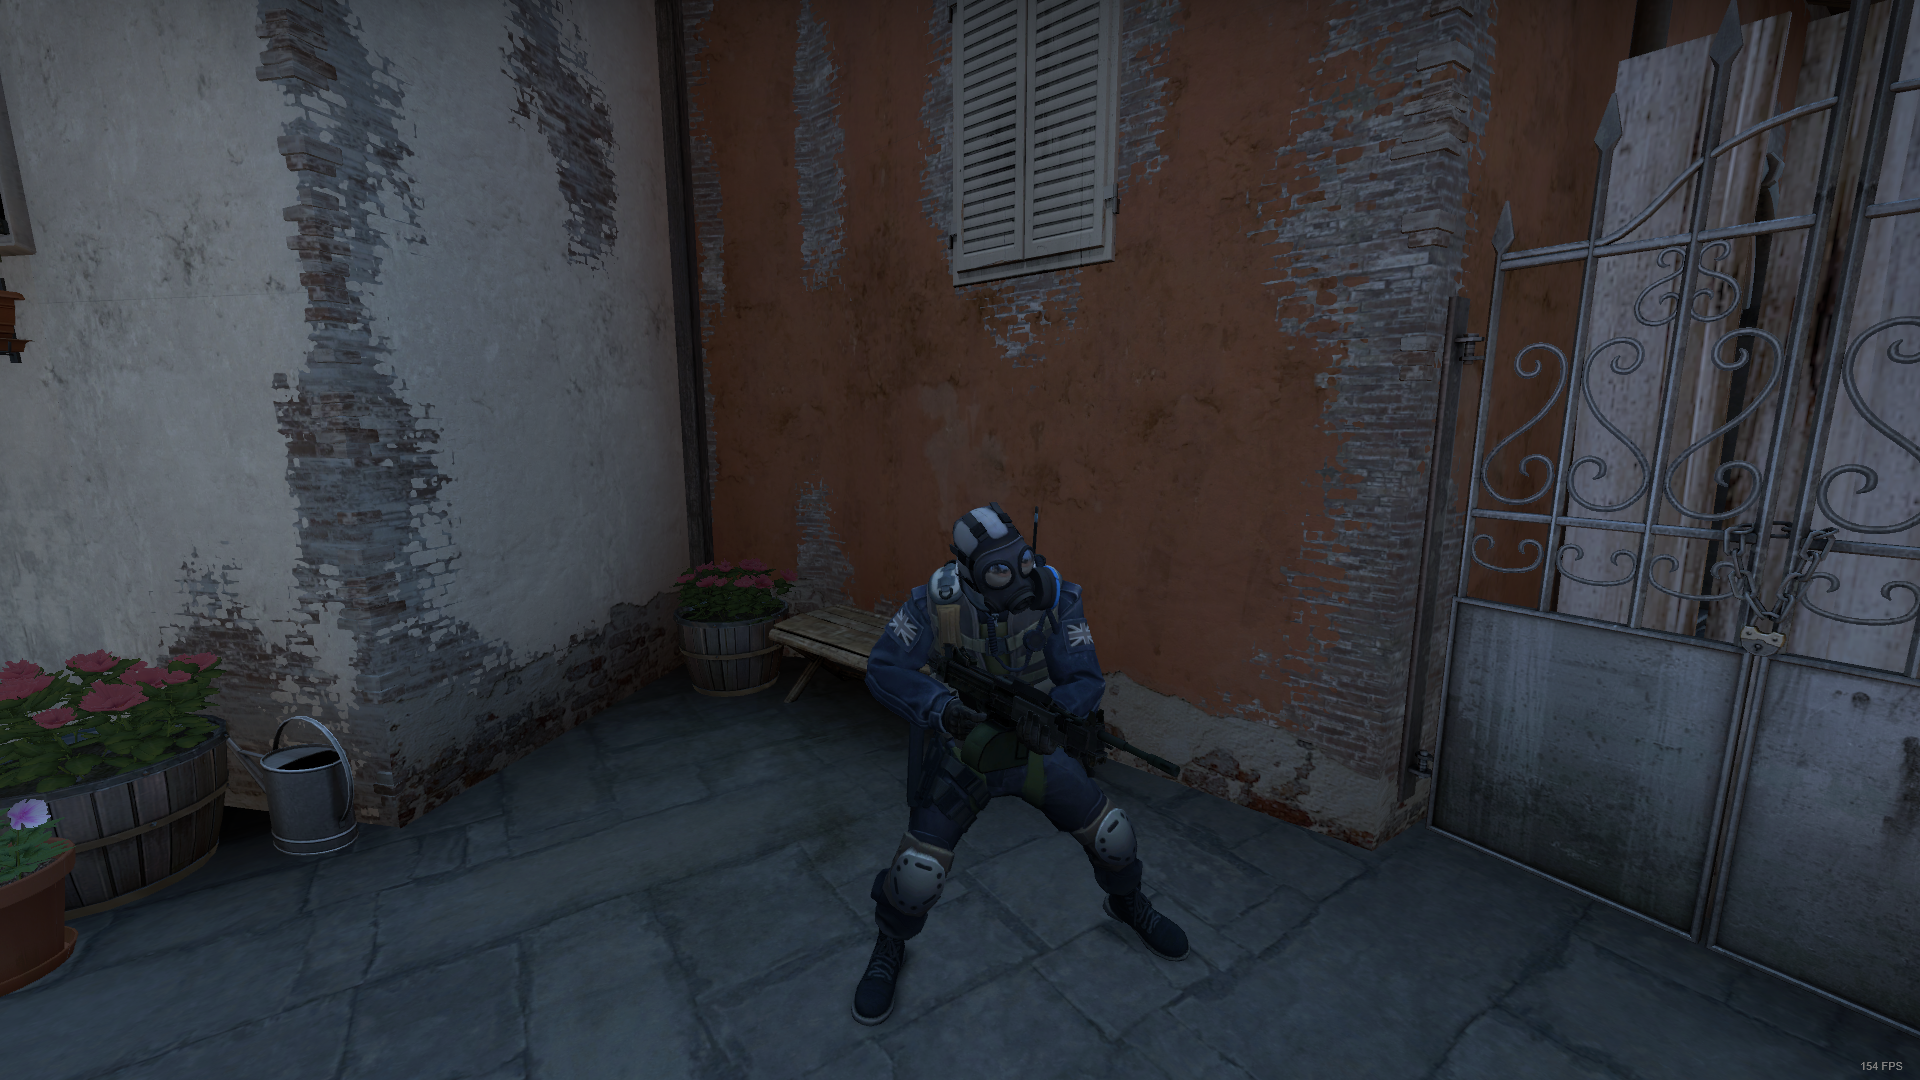ct: (839, 498, 1205, 1038)
